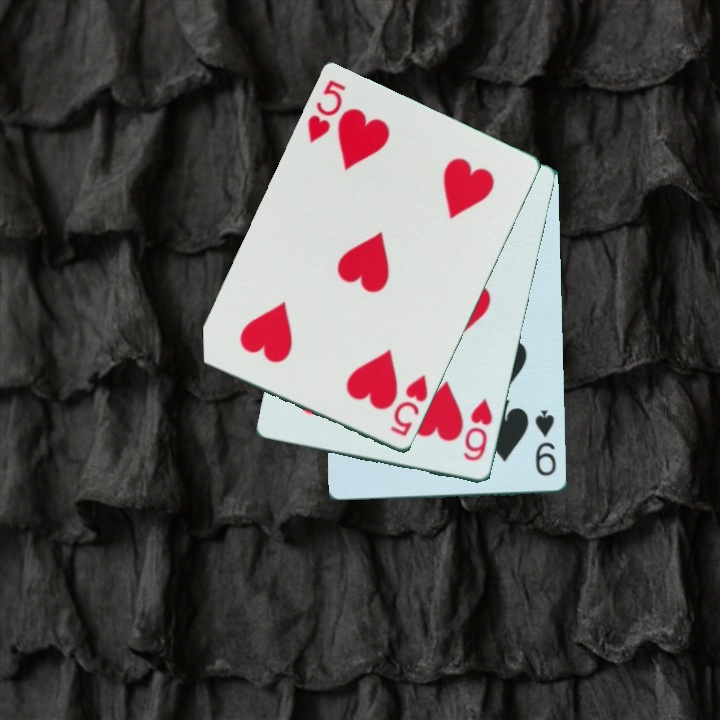5h: (304, 76, 349, 147), (387, 371, 431, 440)
6h: (461, 395, 496, 465)
9s: (532, 407, 559, 480)
